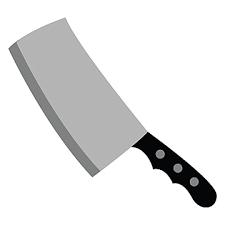Knife: (8, 16, 217, 207)
